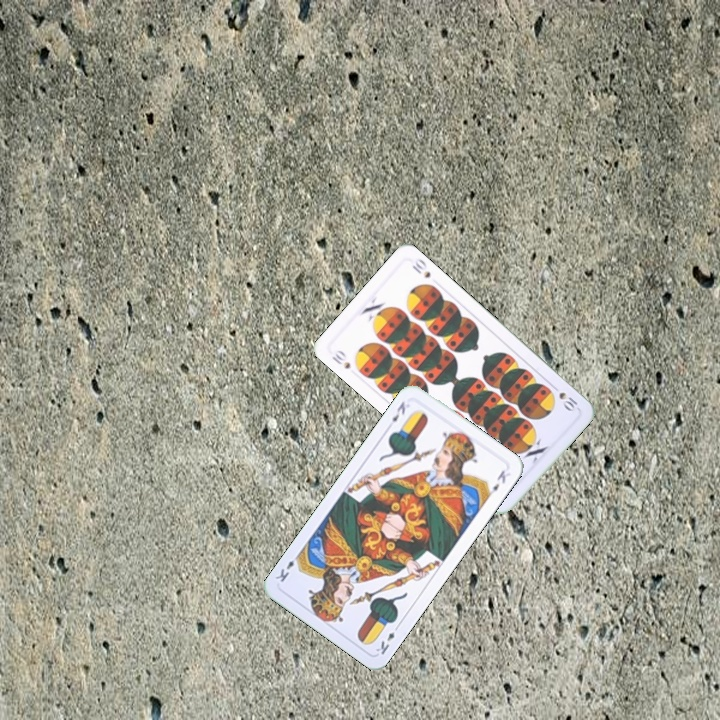EK: (372, 620, 402, 657), (388, 397, 408, 424)
S10: (327, 346, 353, 372), (555, 388, 580, 414)
